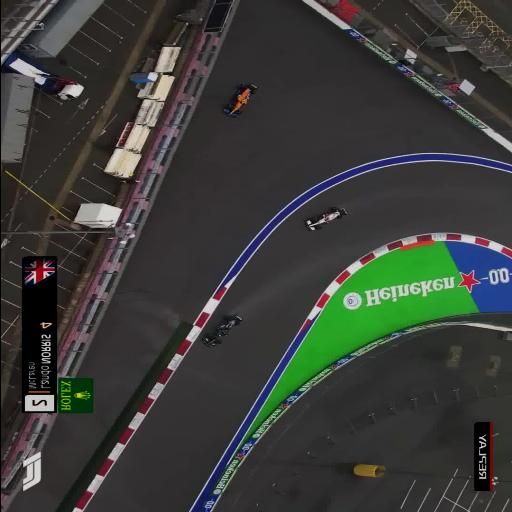f1_car: (202, 315, 243, 347), (223, 84, 258, 118), (305, 208, 347, 231)
